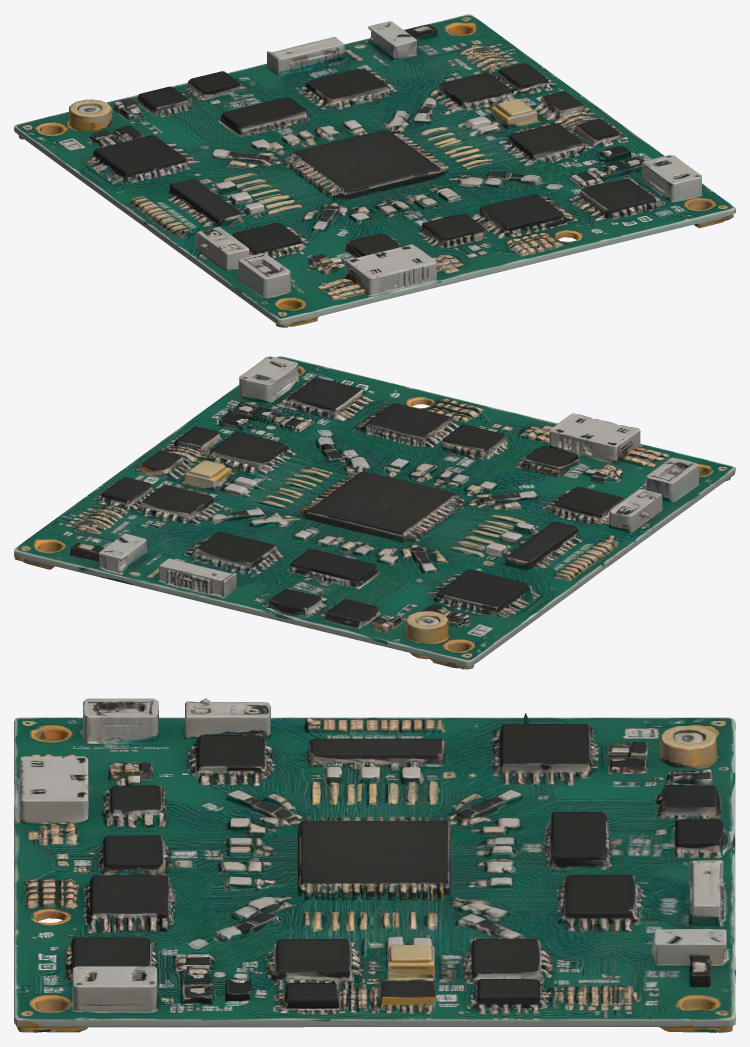
File: SM_PCB_Modern_06_Low.glb
3 views of the same model, one above another, from view 1: azimuth 30°, elevation 25°; view 2: azimuth 150°, elevation 25°; view 3: azimuth 270°, elevation 25° (orthographic). The views are drawn at different scales.
Parts seen in each view (by area): view 1: SM_PCB_Modern_06_Low; view 2: SM_PCB_Modern_06_Low; view 3: SM_PCB_Modern_06_Low.
Part boxes in pixels (x1=…): SM_PCB_Modern_06_Low: x1=14, y1=14, x2=735, y2=327; SM_PCB_Modern_06_Low: x1=14, y1=356, x2=735, y2=669; SM_PCB_Modern_06_Low: x1=14, y1=698, x2=735, y2=1032.
Bounding box in the file's own units: 0.989 × 0.0775 × 0.9954.
1 material, 1 textured.
